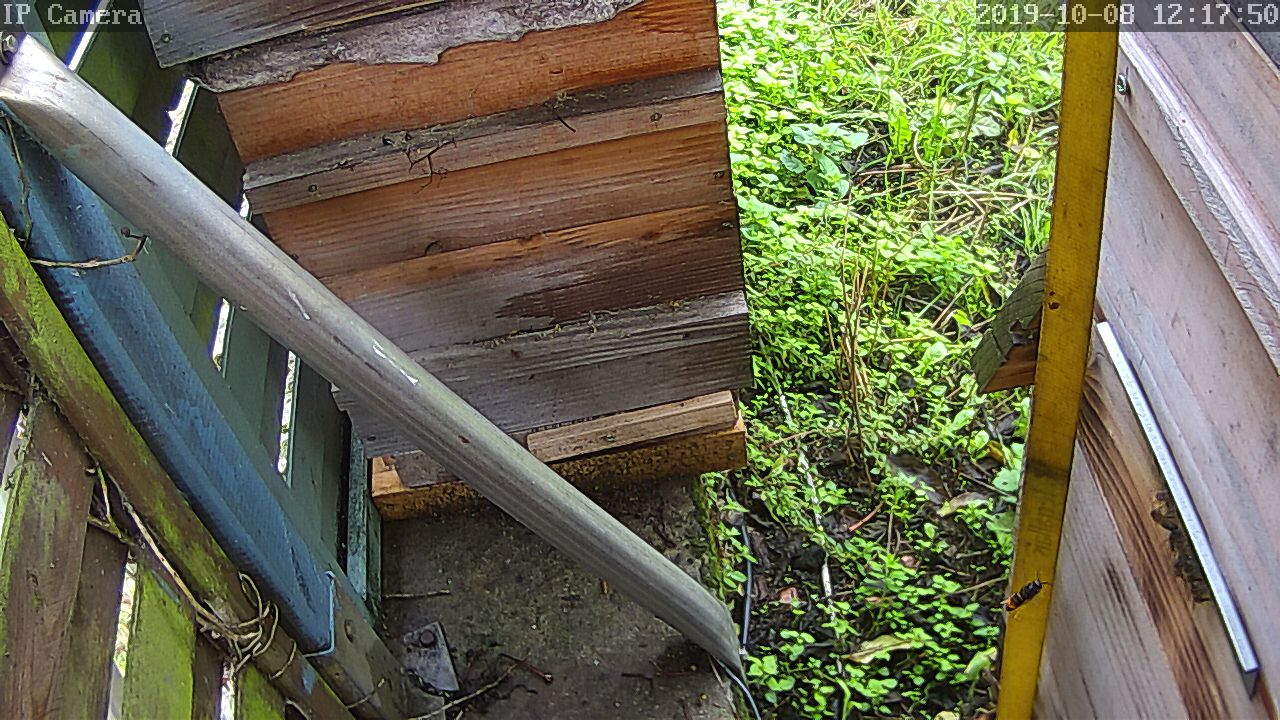bee: (1164, 554, 1208, 601), (1154, 524, 1196, 570), (1150, 501, 1184, 535)
hornet: (991, 561, 1037, 613)
